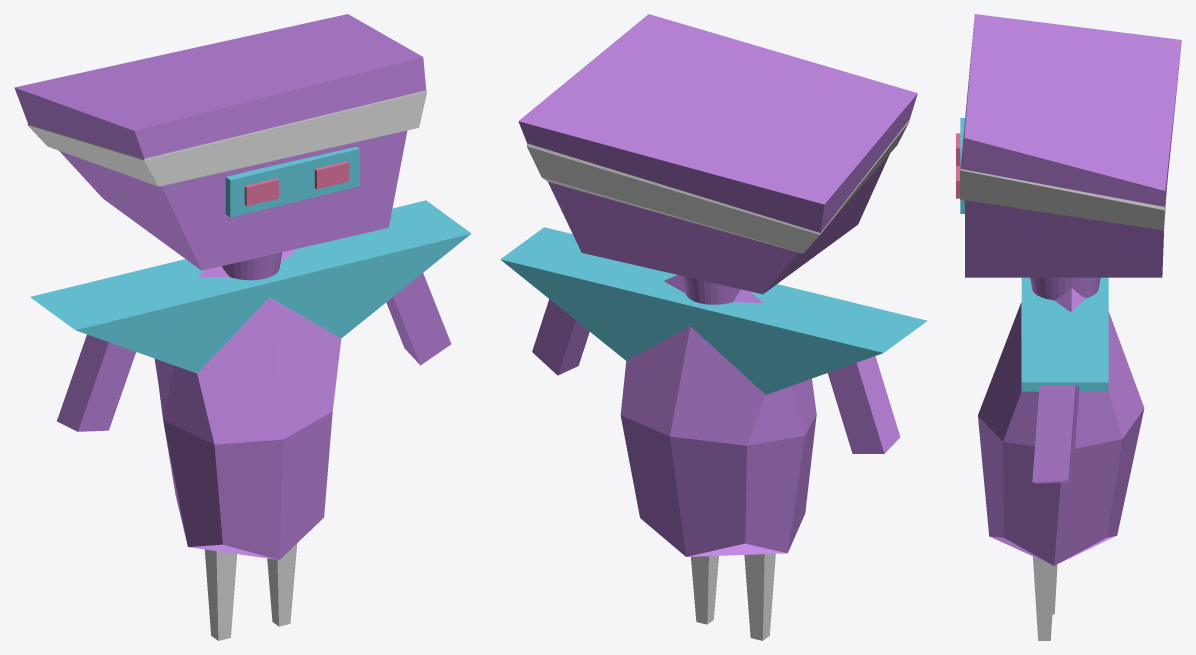
Rendered from purple-partier.gltf.
3 renders of one model, left to right at view 1: azimuth 30°, elevation 25°; view 2: azimuth 150°, elevation 25°; view 3: azimuth 270°, elevation 25°, orthographic. The views are drawn at different scales.
Visible parts, largest first — view 1: eye1; view 2: eye1; view 3: eye1.
Boxes of the visible parts, bbox=[...] form: eye1: bbox=[14, 14, 471, 640]; eye1: bbox=[500, 14, 927, 640]; eye1: bbox=[956, 14, 1181, 640].
Bounding box in the file's own units: 44.33 × 61.25 × 22.88.
